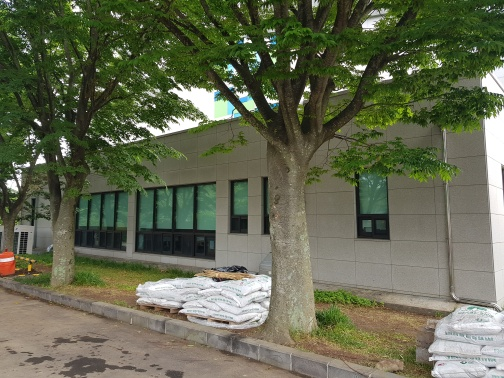Gym: (23, 95, 493, 315), (84, 164, 254, 268)
